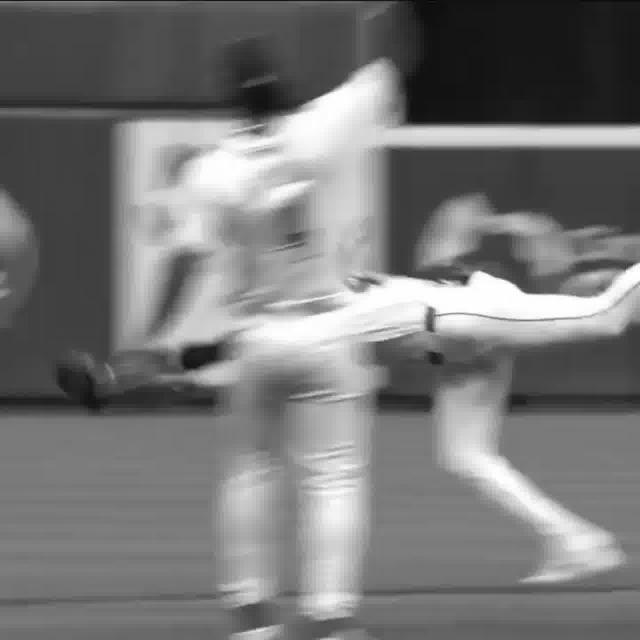baseball_glove: (59, 356, 124, 411)
shoe: (530, 532, 621, 588)
